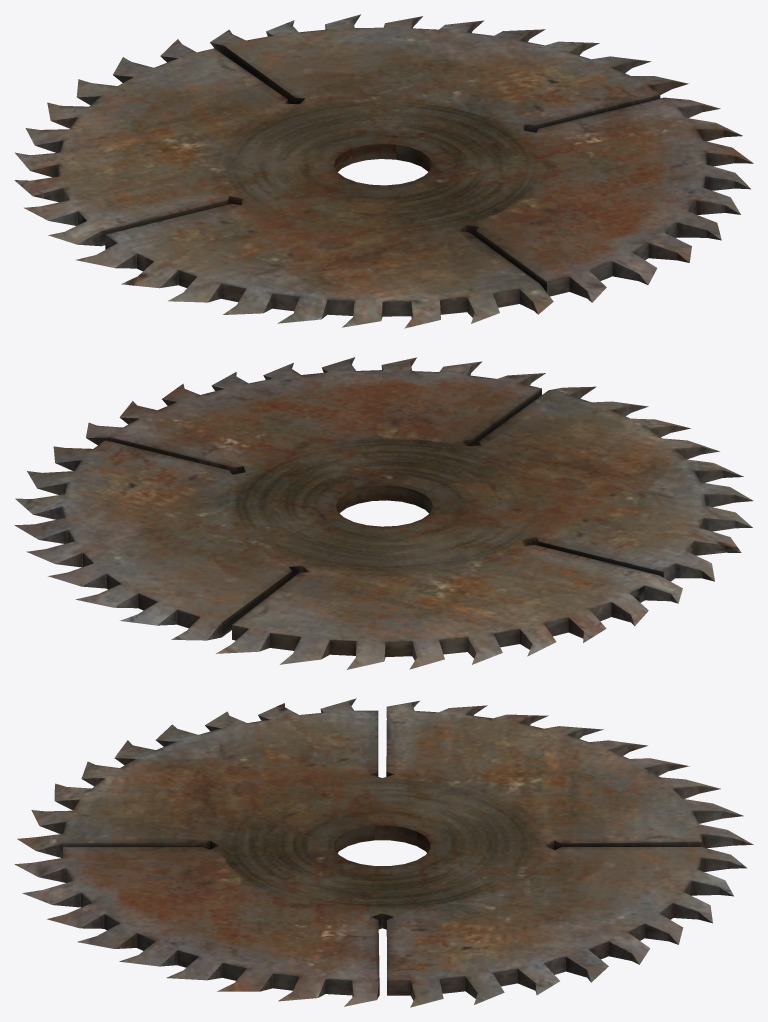
Rendered from sawblade.glb.
3 views of the same model, one above another, from view 1: azimuth 30°, elevation 25°; view 2: azimuth 150°, elevation 25°; view 3: azimuth 270°, elevation 25° (orthographic).
Parts seen in each view (by area): view 1: sawblade001a_reference.smd_0; view 2: sawblade001a_reference.smd_0; view 3: sawblade001a_reference.smd_0.
Boxes of the visible parts, x1=… form: sawblade001a_reference.smd_0: x1=14, y1=14, x2=753, y2=328; sawblade001a_reference.smd_0: x1=14, y1=357, x2=753, y2=669; sawblade001a_reference.smd_0: x1=14, y1=698, x2=753, y2=1007.
Size of the model in its own units: 0.6871 by 0.0154 by 0.6945.
1 material, 1 textured.
